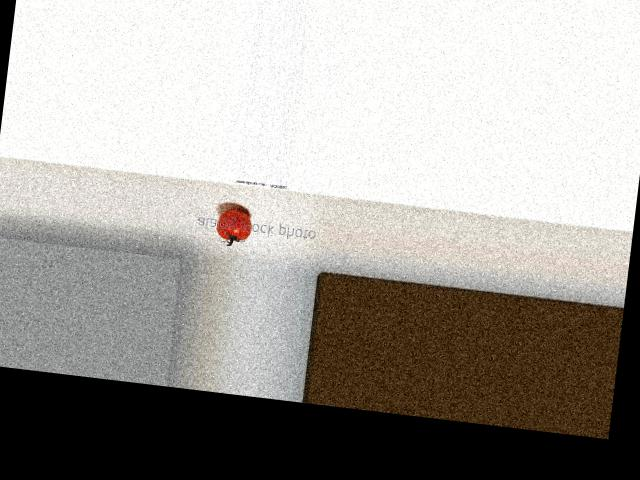tomato: (215, 207, 254, 242)
